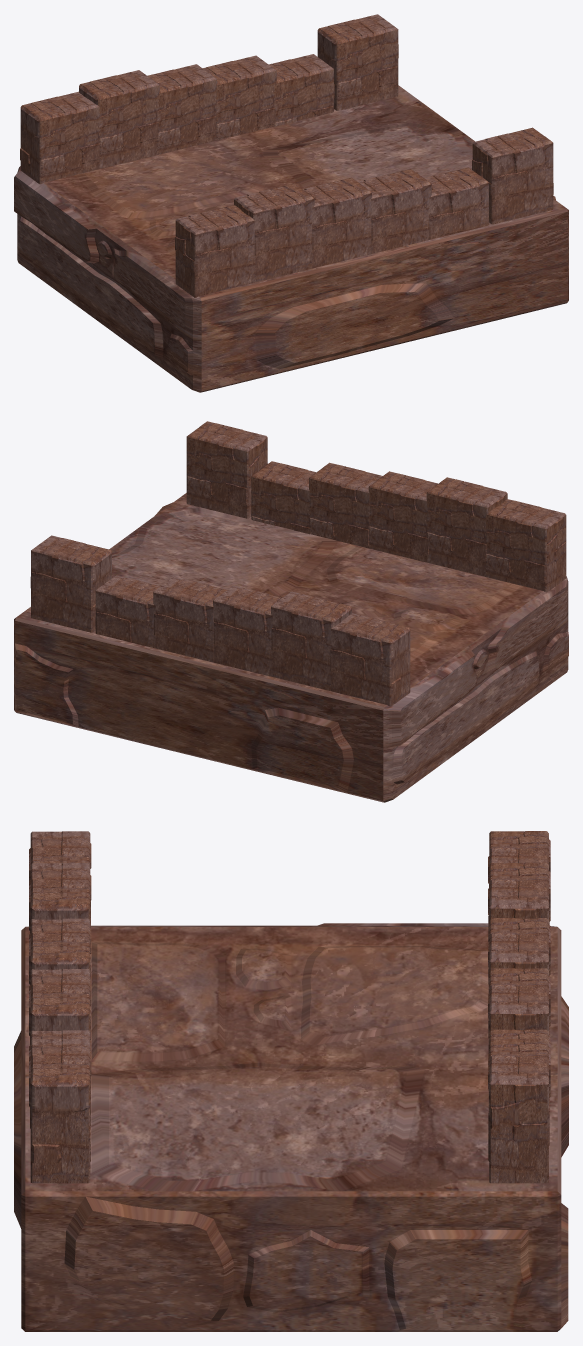
File: Ponte_+Pequena.fbx
3 views of the same model, one above another, from view 1: azimuth 30°, elevation 25°; view 2: azimuth 150°, elevation 25°; view 3: azimuth 270°, elevation 25° (orthographic). The views are drawn at different scales.
Visible parts, largest first — view 1: pCube3, colunas103, colunas105, colunas110, colunas99, colunas106, colunas102, colunas101, colunas107, colunas108, colunas100, colunas109 (+1 smaller); view 2: pCube3, colunas103, colunas105, colunas99, colunas110, colunas106, colunas102, colunas107, colunas101, colunas100, colunas108, colunas109 (+1 smaller); view 3: pCube3, colunas110, colunas99, colunas108, colunas100, colunas102, colunas106, colunas107, colunas101, colunas103, colunas105, colunas109.
Part boxes in pixels (x1=…): pCube3: x1=14, y1=85, x2=568, y2=392; colunas103: x1=175, y1=205, x2=255, y2=297; colunas105: x1=20, y1=91, x2=100, y2=184; colunas110: x1=317, y1=14, x2=398, y2=110; colunas99: x1=472, y1=127, x2=553, y2=224; colunas106: x1=79, y1=70, x2=159, y2=168; colunas102: x1=234, y1=183, x2=314, y2=282; colunas101: x1=303, y1=177, x2=371, y2=268; colunas107: x1=147, y1=64, x2=216, y2=154; colunas108: x1=203, y1=55, x2=276, y2=140; colunas100: x1=358, y1=169, x2=431, y2=253; colunas109: x1=269, y1=54, x2=334, y2=126; pCube3: x1=14, y1=493, x2=568, y2=802; colunas103: x1=486, y1=499, x2=566, y2=592; colunas105: x1=330, y1=613, x2=410, y2=706; colunas99: x1=186, y1=421, x2=267, y2=518; colunas110: x1=30, y1=535, x2=111, y2=632; colunas106: x1=271, y1=591, x2=351, y2=690; colunas102: x1=426, y1=477, x2=507, y2=576; colunas107: x1=213, y1=585, x2=282, y2=676; colunas101: x1=368, y1=471, x2=437, y2=562; colunas100: x1=309, y1=462, x2=382, y2=548; colunas108: x1=153, y1=577, x2=226, y2=662; colunas109: x1=95, y1=575, x2=160, y2=648; pCube3: x1=14, y1=923, x2=568, y2=1331; colunas110: x1=488, y1=1038, x2=550, y2=1183; colunas99: x1=29, y1=1039, x2=91, y2=1183; colunas108: x1=488, y1=968, x2=550, y2=1053; colunas100: x1=29, y1=968, x2=91, y2=1084; colunas102: x1=29, y1=863, x2=91, y2=973; colunas106: x1=488, y1=862, x2=550, y2=984; colunas107: x1=488, y1=918, x2=550, y2=1037; colunas101: x1=29, y1=918, x2=91, y2=1024; colunas103: x1=29, y1=831, x2=91, y2=919; colunas105: x1=488, y1=831, x2=550, y2=941; colunas109: x1=488, y1=1029, x2=550, y2=1123.
Size of the model in its own units: 4 by 1.63 by 3.34.
Materials: 2 (2 with a texture image).
